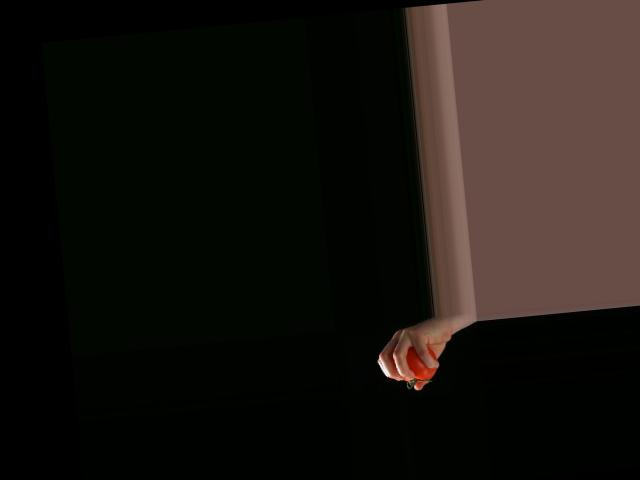tomato: (400, 342, 439, 381)
